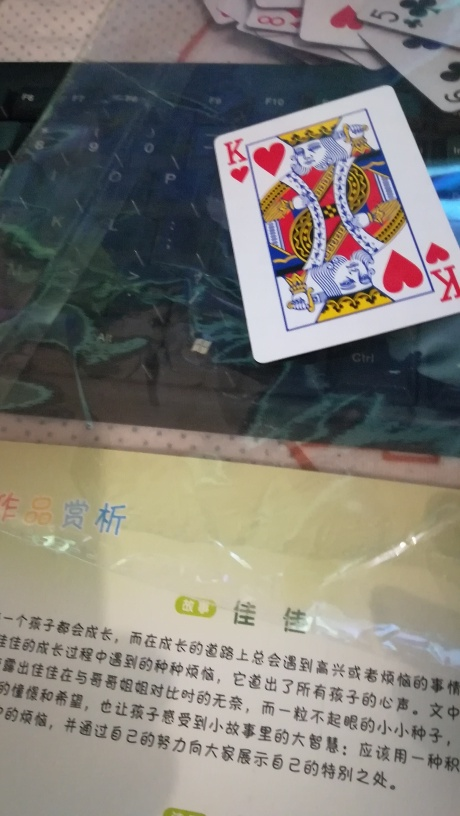hx k: (213, 81, 460, 361)
